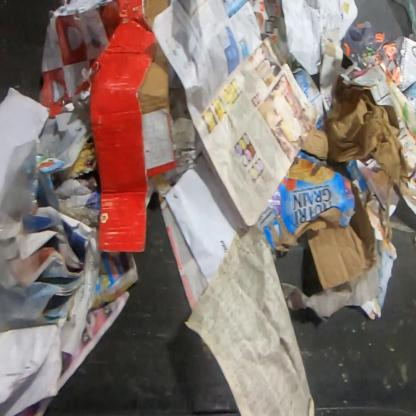cardboard: (88, 0, 177, 252), (258, 150, 376, 291), (299, 90, 409, 187)
soft_plastic: (0, 136, 43, 334)
